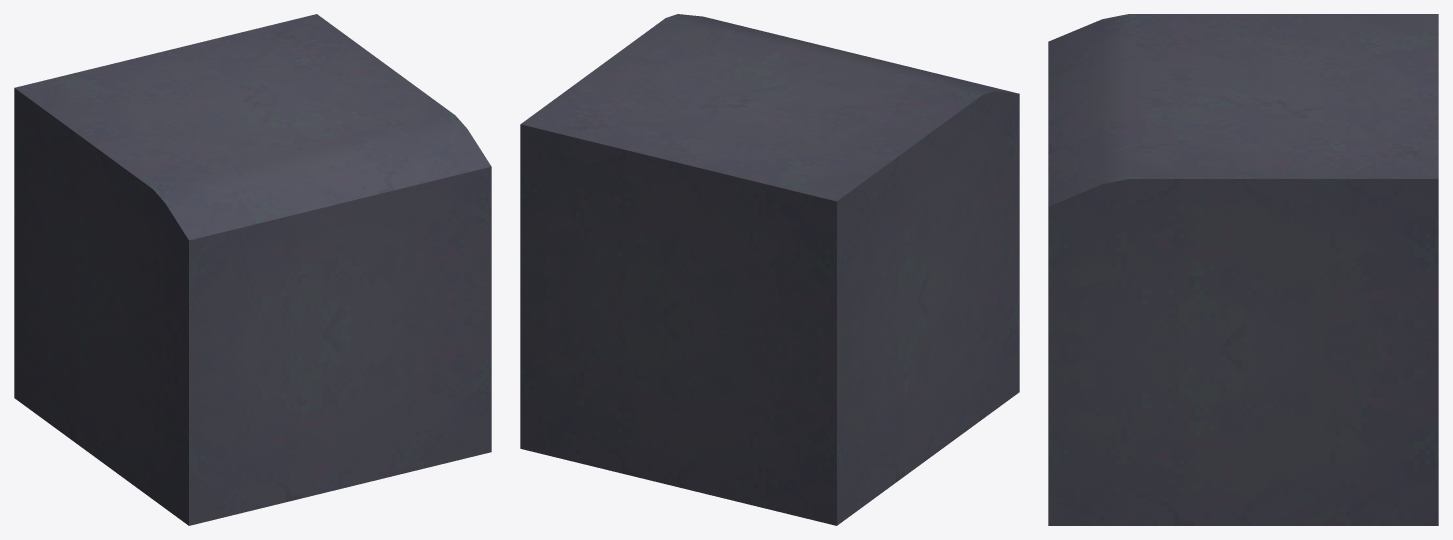
The model's file is Road1.glb.
3 views of the same model, side by side, from view 1: azimuth 30°, elevation 25°; view 2: azimuth 150°, elevation 25°; view 3: azimuth 270°, elevation 25° (orthographic). The views are drawn at different scales.
Parts seen in each view (by area): view 1: Cube.035; view 2: Cube.035; view 3: Cube.035.
Boxes of the visible parts, x1,y1,x2,y2 form: Cube.035: (14,14,491,525); Cube.035: (520,14,1019,525); Cube.035: (1048,14,1438,525).
Bounding box in the file's own units: 8 × 7.84 × 8.
1 material, 1 textured.
